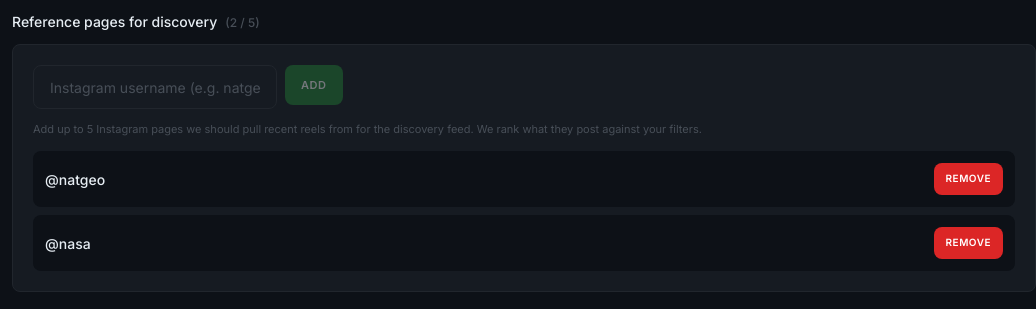
Scenario: ReferencePagesPanel › removes a page when the row's Remove button is clicked
Expected: the element with test id "ref-item-natgeo" is shown, left=33, top=151, right=1015, bottom=207
Step 1. Click the button with test id "ref-remove-natgeo" → point(968, 179), box left=934, top=163, right=1003, bottom=195
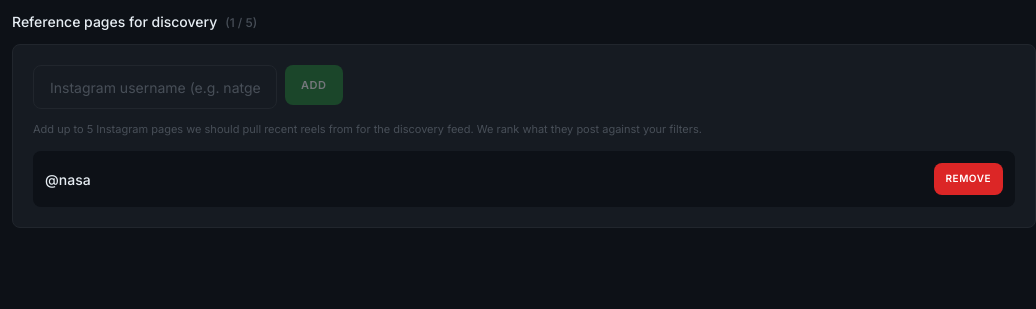
Expected: the element with test id "ref-item-nasa" is shown, left=33, top=151, right=1015, bottom=207
Now the element with test id "ref-item-natgeo" is gone
